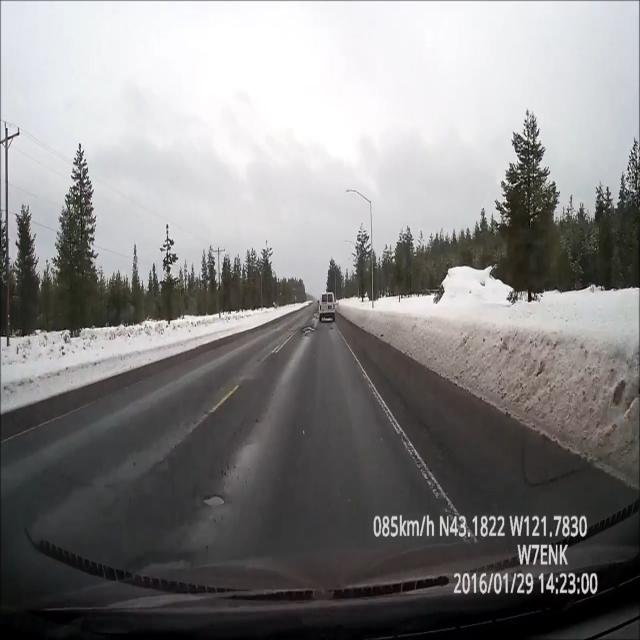Pothole: (298, 319, 317, 349)
